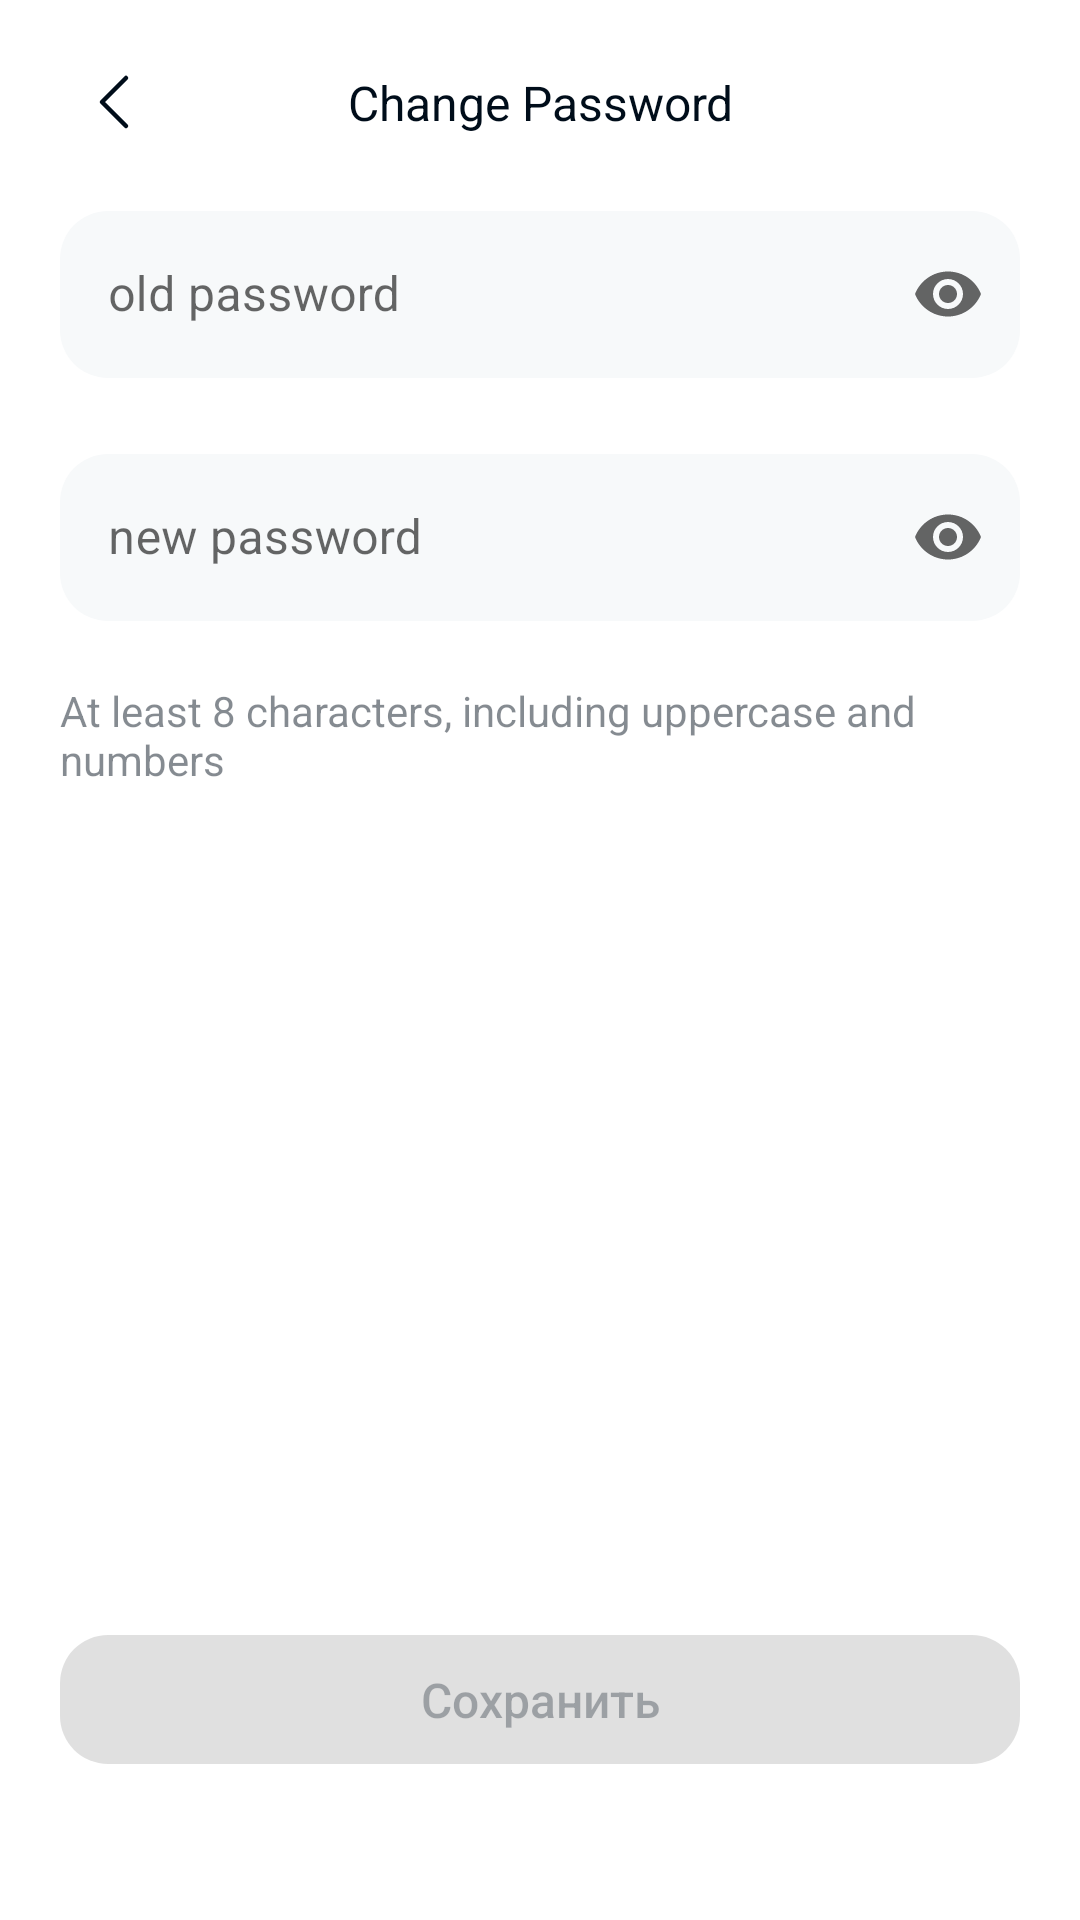

Named icons in this screenshot (1080px×1920px) and their centers, (x=x, y=y):
chevron left: (x=114, y=102)
